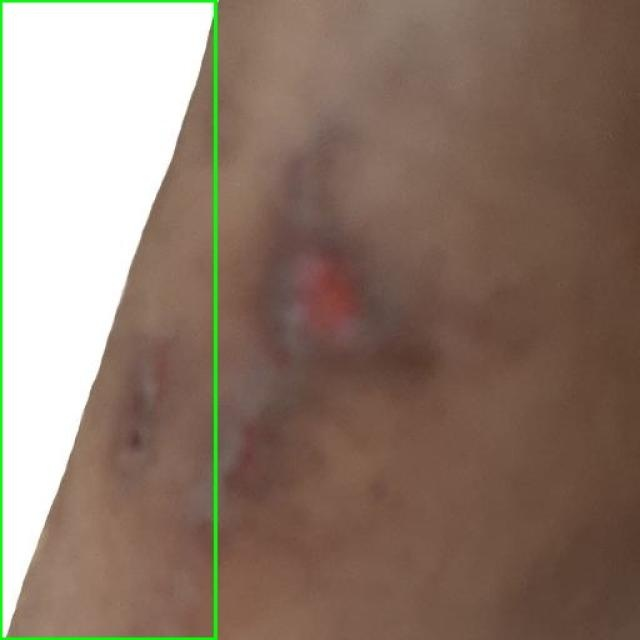Atopic Dermatitis: (0, 0, 215, 639)
